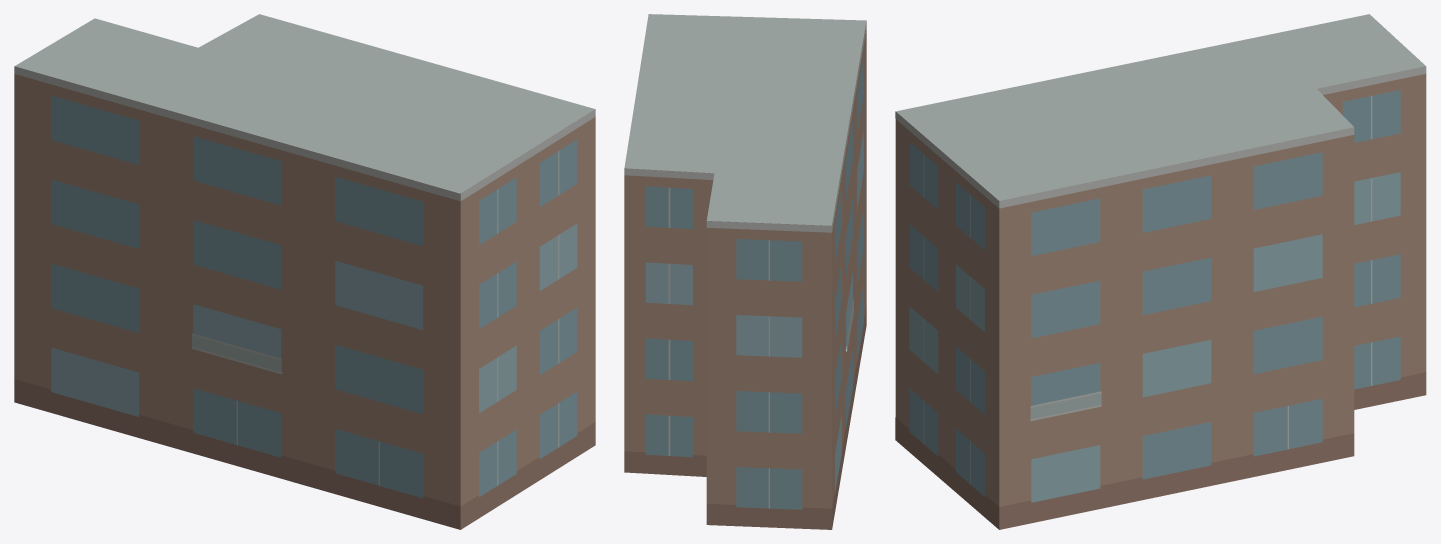
The model's file is survey-upis-32494871.glb.
3 views of the same model, side by side, from view 1: azimuth 30°, elevation 25°; view 2: azimuth 150°, elevation 25°; view 3: azimuth 270°, elevation 25° (orthographic). The views are drawn at different scales.
Visible parts, largest first — view 1: survey-upis-32494871.tmp; view 2: survey-upis-32494871.tmp; view 3: survey-upis-32494871.tmp.
Boxes of the visible parts, box(x1,y1,x2,y2) form: survey-upis-32494871.tmp: box(14, 14, 595, 529); survey-upis-32494871.tmp: box(624, 14, 866, 529); survey-upis-32494871.tmp: box(895, 14, 1426, 529).
Bounding box in the file's own units: 13.13 × 10.75 × 15.74.
